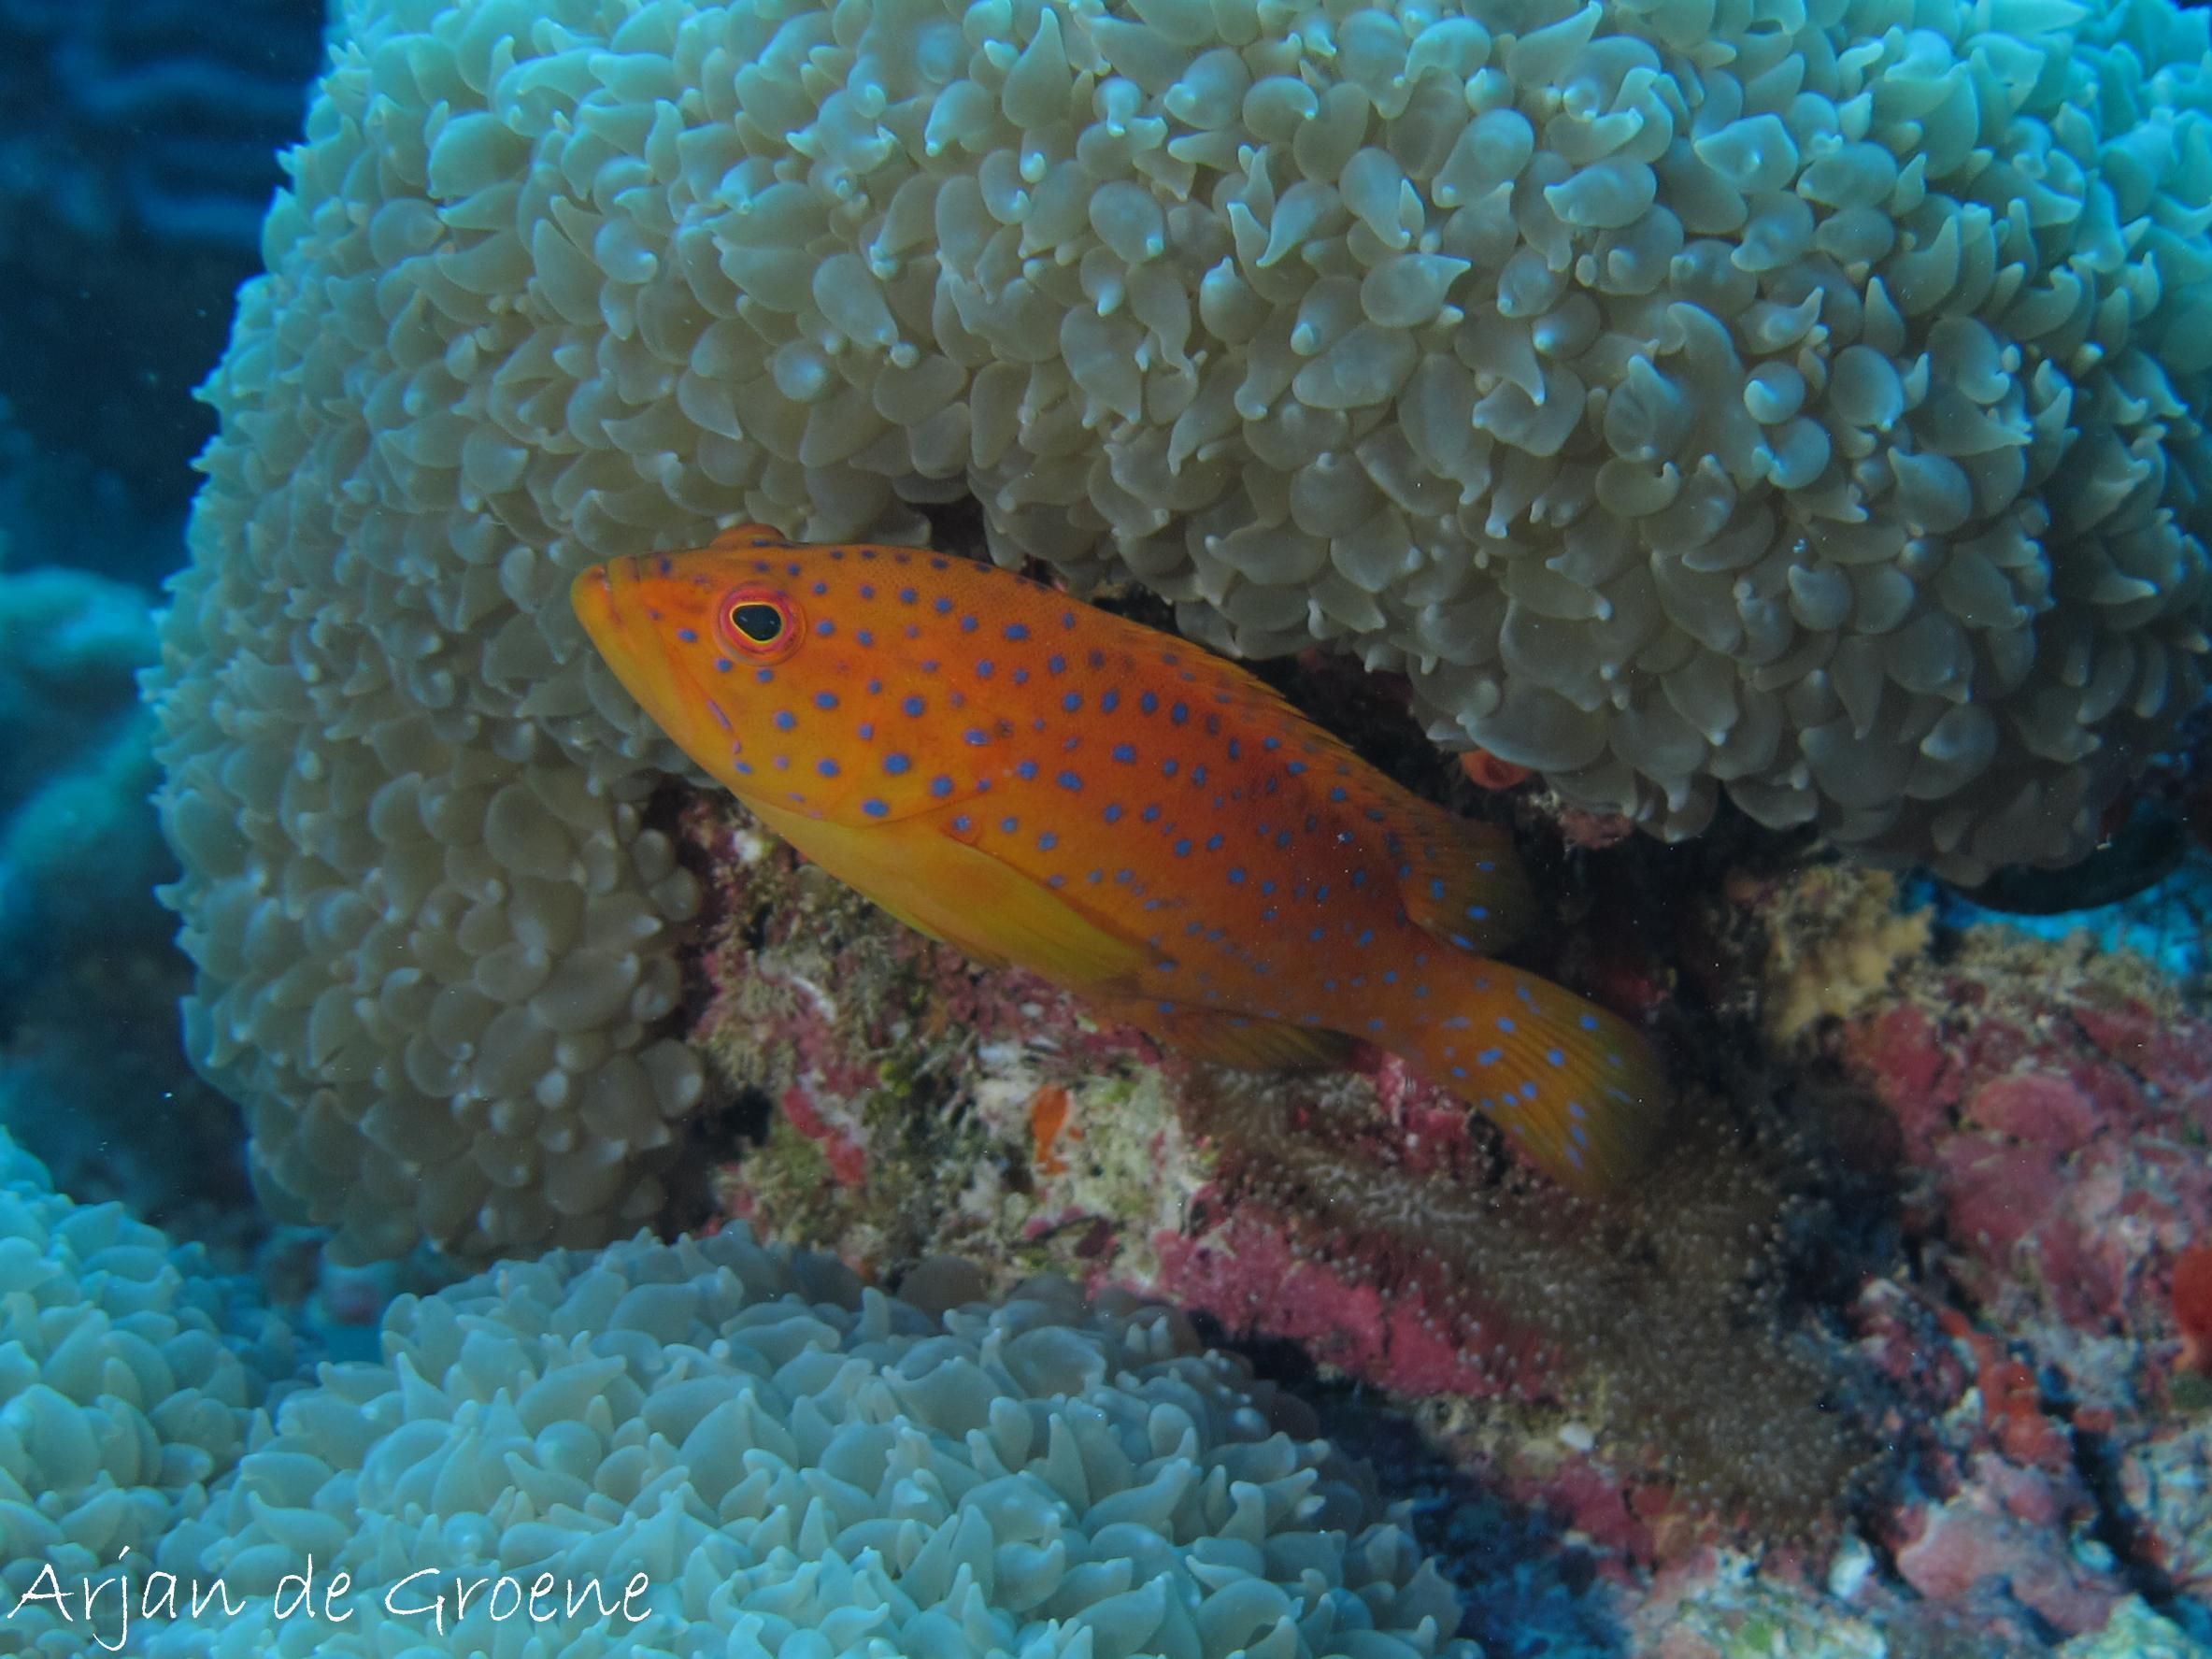Fish: (573, 526, 1707, 1202)
